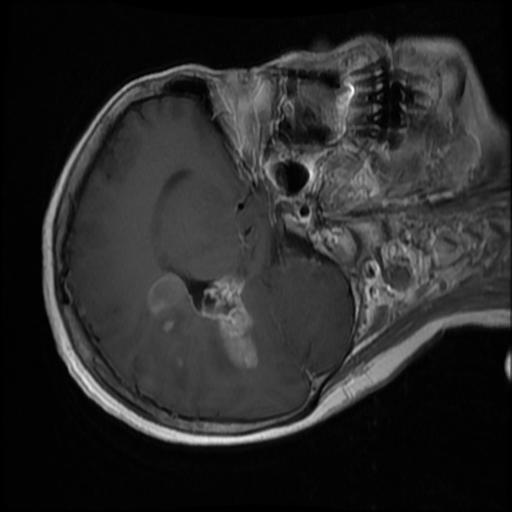glioma: (147, 273, 257, 391)
